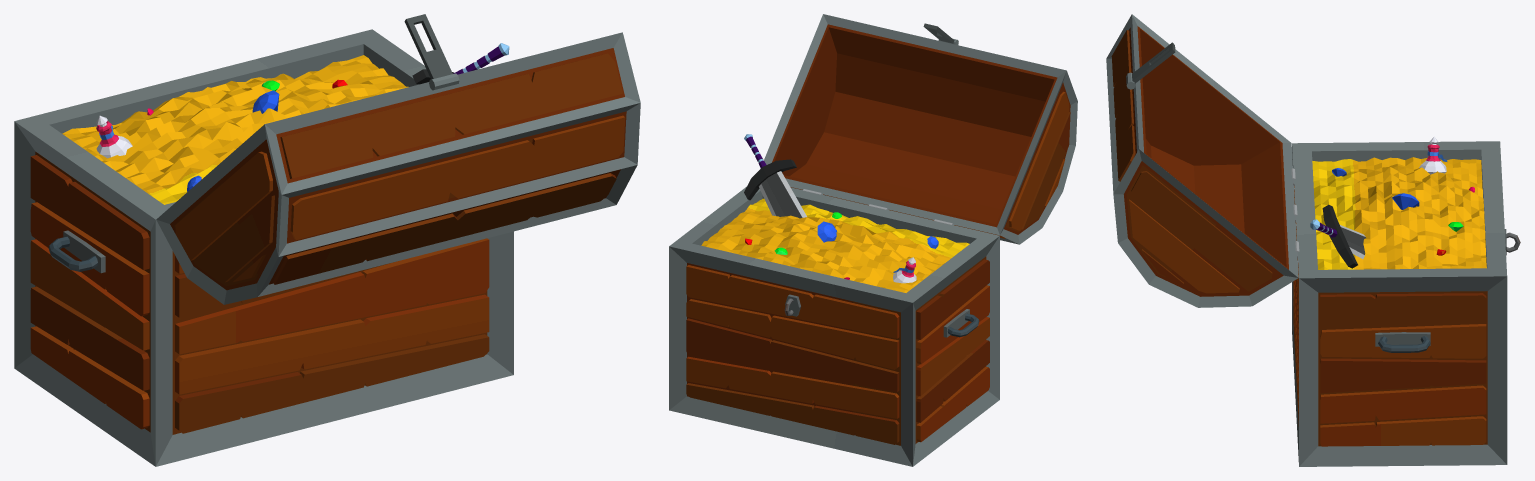
Rendered from cofre_cofre_0.004_lev2.glb.
The picture shows the model from 3 angles, left to right: view 1: azimuth 30°, elevation 25°; view 2: azimuth 150°, elevation 25°; view 3: azimuth 270°, elevation 25°; orthographic projection. The views are drawn at different scales.
Visible parts, largest first — view 1: cofre_cofre_0.004_lev2; view 2: cofre_cofre_0.004_lev2; view 3: cofre_cofre_0.004_lev2.
Boxes of the visible parts, box(x1,y1,x2,y2) form: cofre_cofre_0.004_lev2: box(14, 14, 640, 466); cofre_cofre_0.004_lev2: box(669, 14, 1077, 466); cofre_cofre_0.004_lev2: box(1106, 14, 1520, 466).
Size of the model in its own units: 2.97 by 3.18 by 3.38.
1 material, 1 textured.
